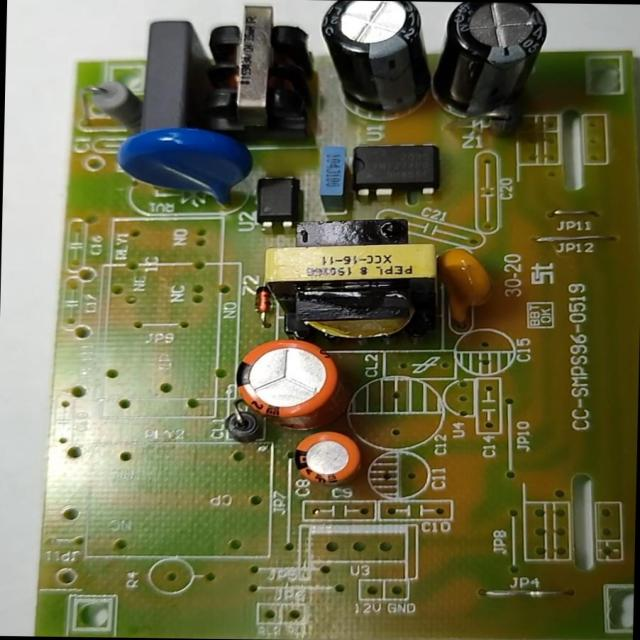Cap1: (230, 335, 348, 428)
Cap2: (289, 427, 362, 490)
Cap3: (306, 0, 442, 120)
Cap4: (436, 2, 548, 125)
MOSFET: (347, 138, 449, 202)
Mov: (111, 126, 258, 214)
Resistor: (85, 76, 143, 126)
Transformer: (256, 211, 448, 346), (186, 1, 312, 140)
